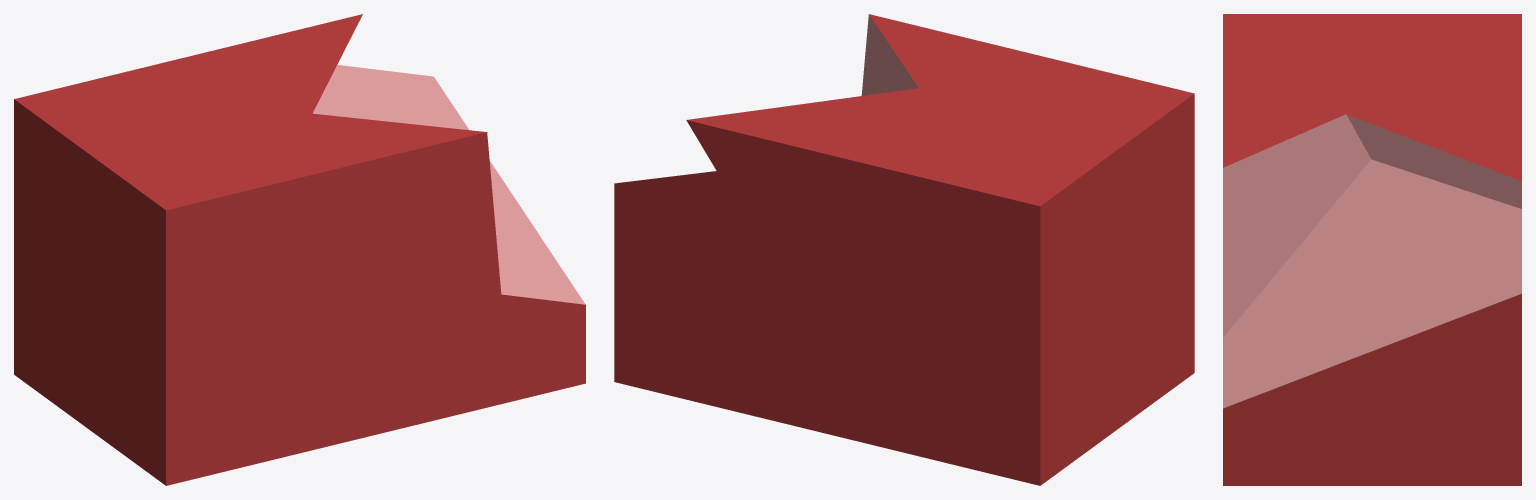
3 renders of one model, left to right at view 1: azimuth 30°, elevation 25°; view 2: azimuth 150°, elevation 25°; view 3: azimuth 270°, elevation 25°, orthographic. The views are drawn at different scales.
Parts seen in each view (by area): view 1: base; view 2: base; view 3: base.
Boxes of the visible parts, x1=… form: base: x1=14, y1=14, x2=585, y2=485; base: x1=614, y1=14, x2=1194, y2=485; base: x1=1223, y1=14, x2=1521, y2=485.
Size of the model in its own units: 92.98 by 58.33 by 58.33.
